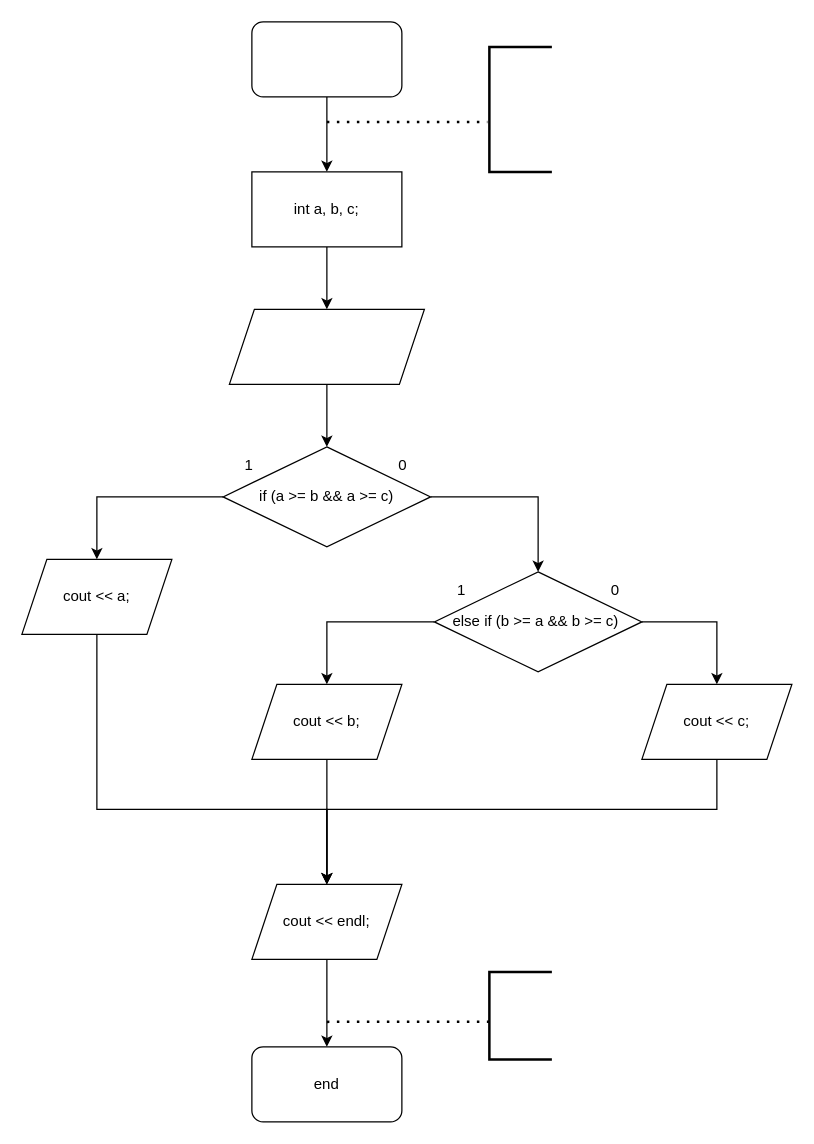
Image size: 814x1144. Some labels were removed from this diagram. Each missing label, with the centre of its shape:
#include <iostream> using namespace std; int main (): (x=520, y=108)
cin >> a >> b >> c;: (x=326, y=346)
return 0;: (x=520, y=1015)
start: (x=326, y=59)
